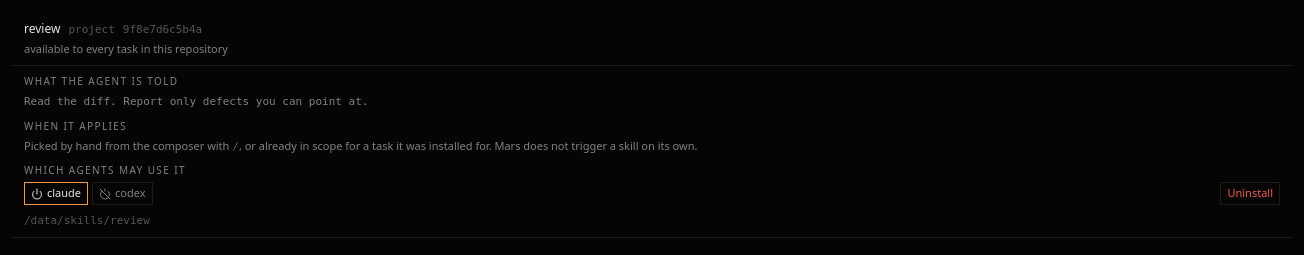
Test case: SkillsLibrary › collapses a skill on request
Click the button that starts with "review" at (42, 28), box [12,12,1292,65]
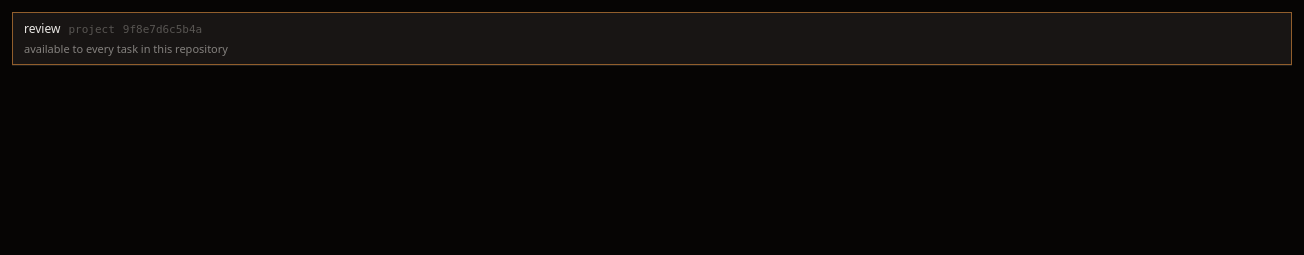
Check: the text "Read the diff. Report only defects you can point at." is gone
